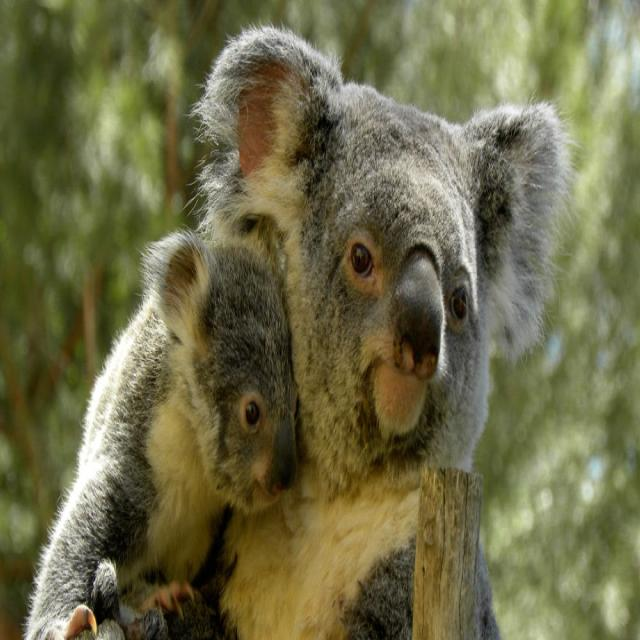Koala: (191, 16, 571, 640), (25, 225, 302, 640)
